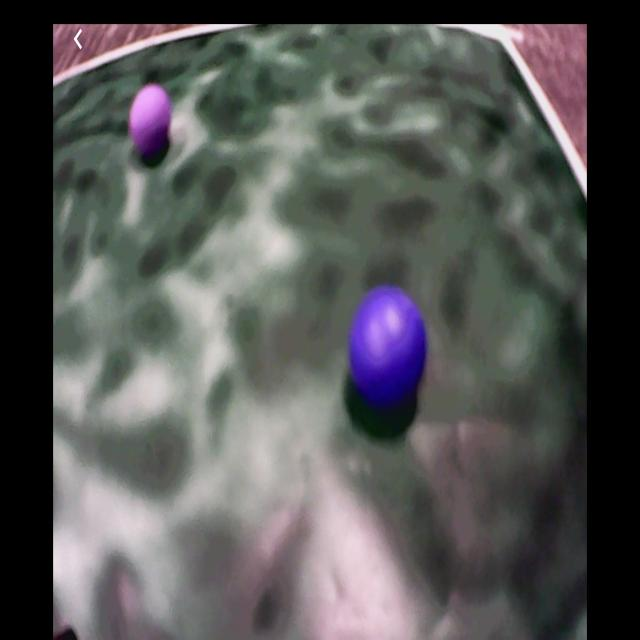ball: (349, 290, 427, 406), (132, 86, 171, 153)
